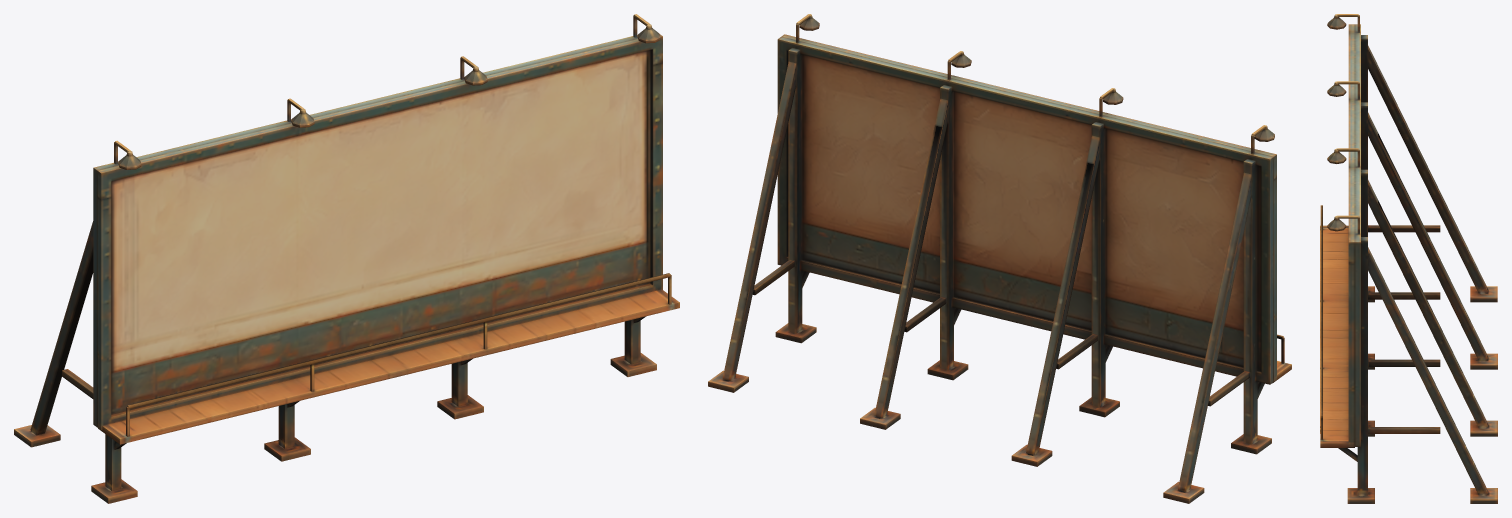
Rendered from RF_Billboard12x5.fbx.
The picture shows the model from 3 angles, left to right: view 1: azimuth 30°, elevation 25°; view 2: azimuth 150°, elevation 25°; view 3: azimuth 270°, elevation 25°; orthographic projection. The views are drawn at different scales.
Parts seen in each view (by area): view 1: RF_Billboard12x5; view 2: RF_Billboard12x5; view 3: RF_Billboard12x5.
Boxes of the visible parts, bbox=[...] form: RF_Billboard12x5: bbox=[14, 14, 679, 503]; RF_Billboard12x5: bbox=[708, 14, 1291, 503]; RF_Billboard12x5: bbox=[1320, 14, 1497, 503].
Size of the model in its own units: 12.44 by 4.28 by 7.5.
1 material, 1 textured.
